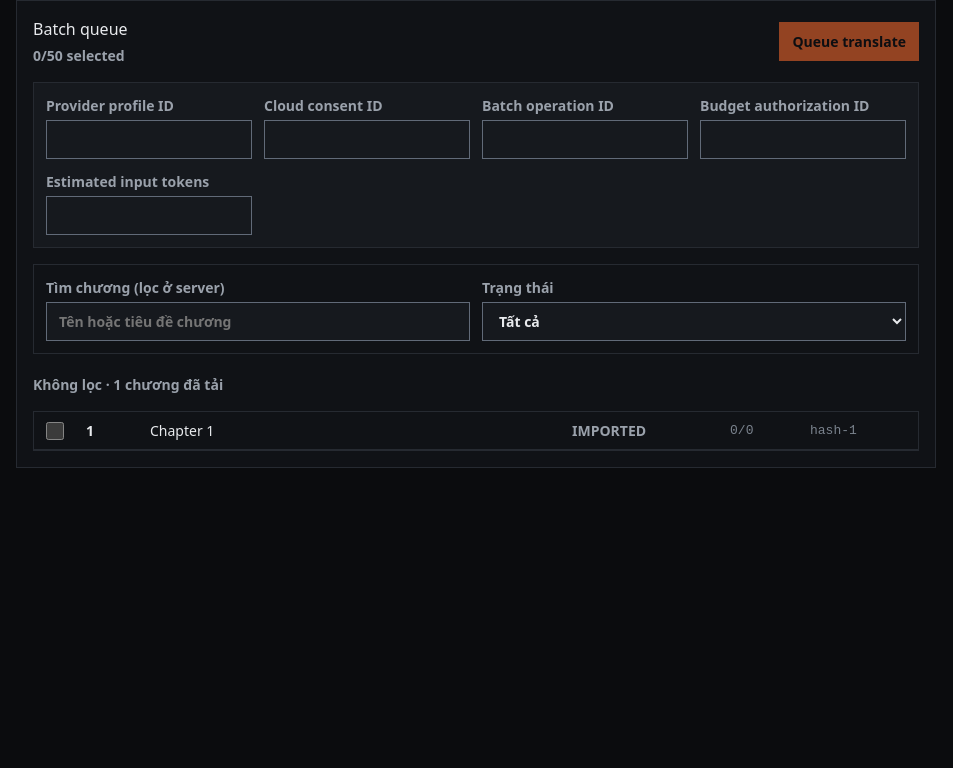
Test: BatchQueue (U07 round 3 - theo dõi batch) › FAILED ⇒ alert tổng hợp, nút Thử lại chỉ cho job retryable, non-retryable được đánh dấu
Expected: the text "Chapter 1" is shown, [150,421,214,440]
Click the checkbox. click: (55, 430)
box: [46,422,64,440]
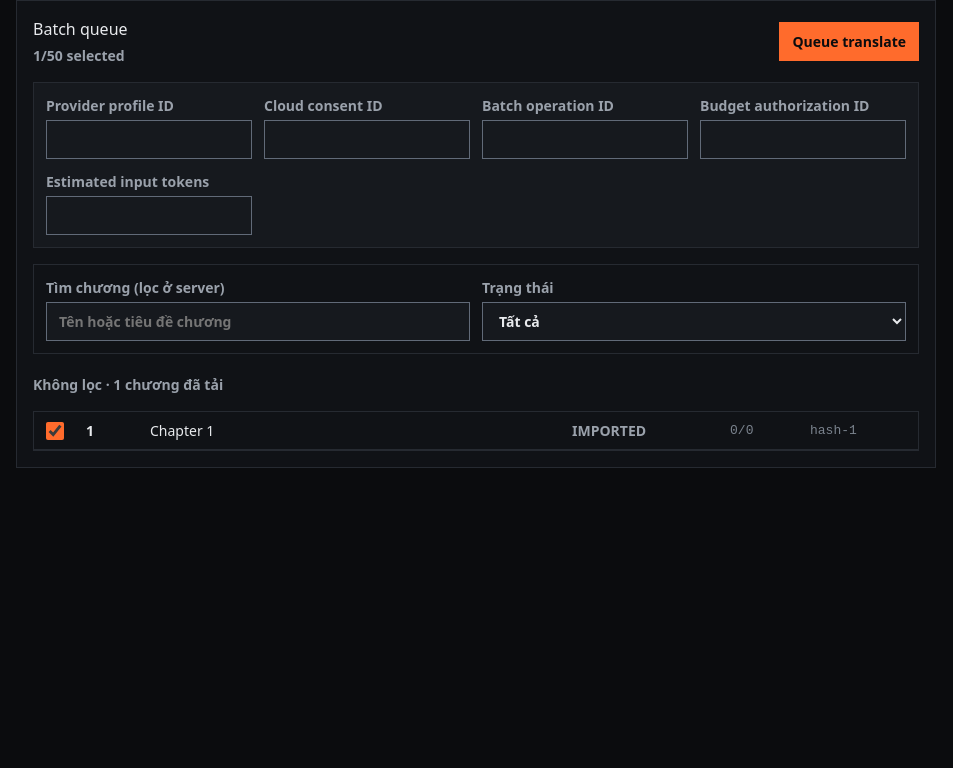
Expected: the text "1/50 selected" is shown, [33,45,128,66]
Type "prof-1" into the field labelled "Provider profile ID". click: (149, 140)
box: [46,120,252,159]
Type "consent-1" into the field labelled "Cloud consent ID". click: (367, 140)
box: [264,120,470,159]
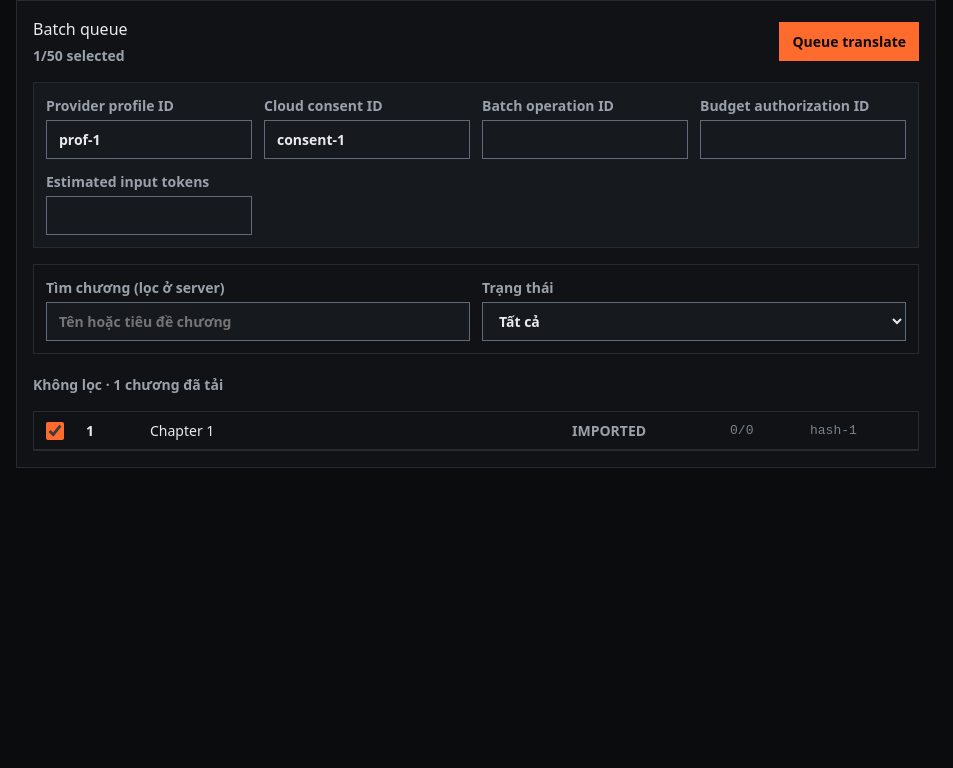
Type "quote-1" into the field labelled "Batch operation ID". click: (585, 140)
box: [482,120,688,159]
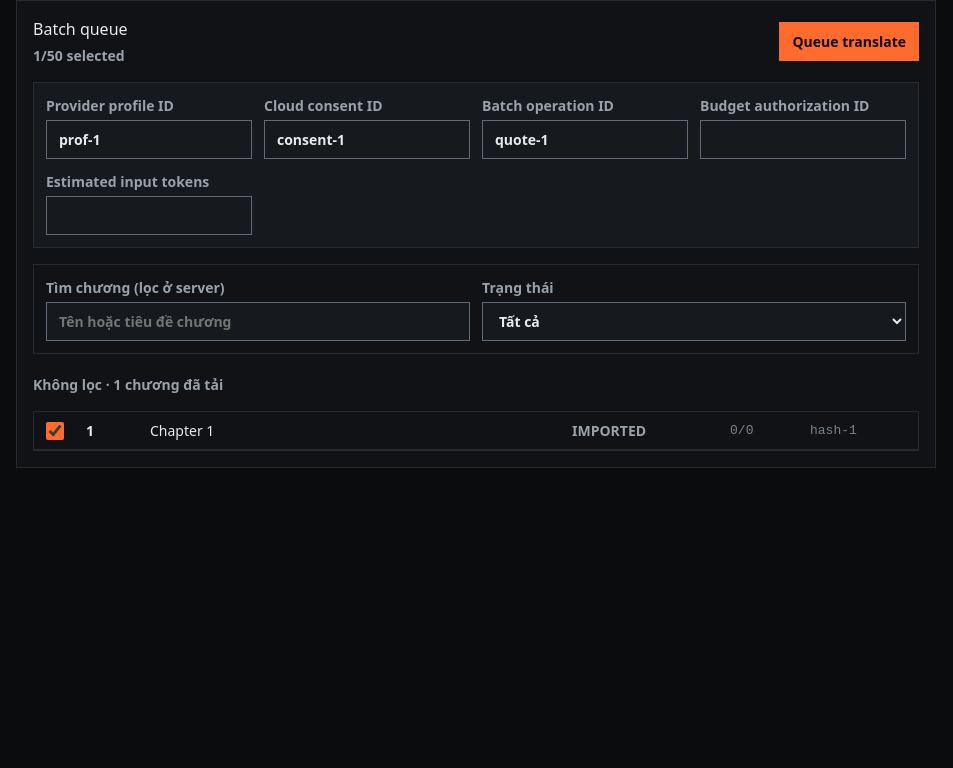
Type "budget-1" into the field labelled "Budget authorization ID". click: (803, 140)
box: [700,120,906,159]
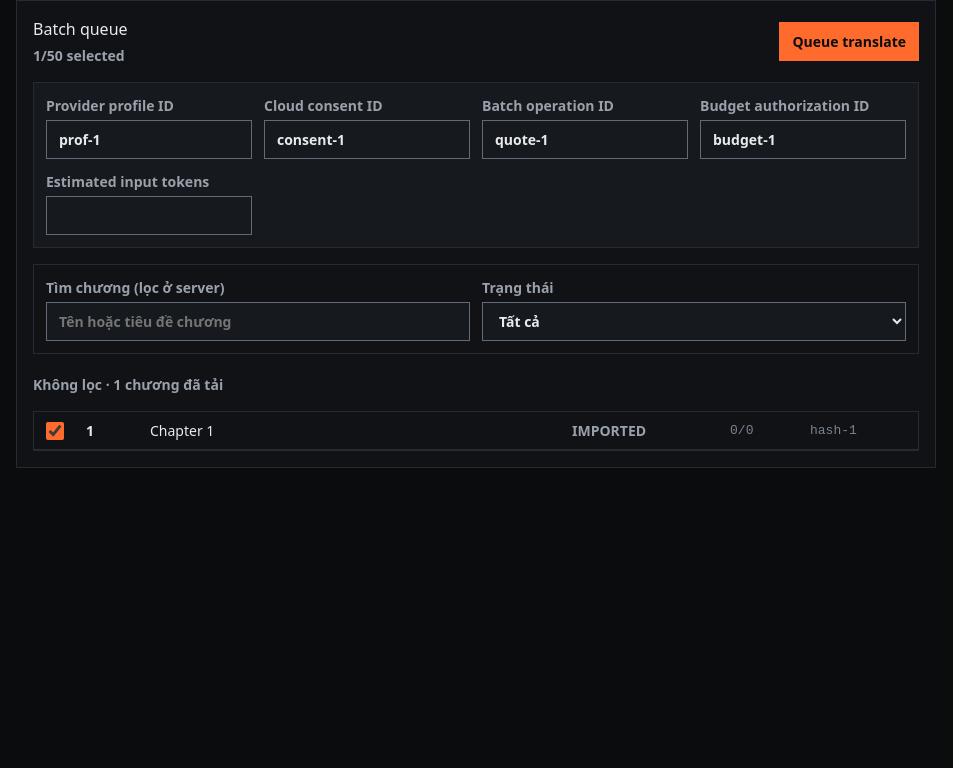
Type "120" into the field labelled "Estimated input tokens". click: (149, 216)
box: [46,196,252,235]
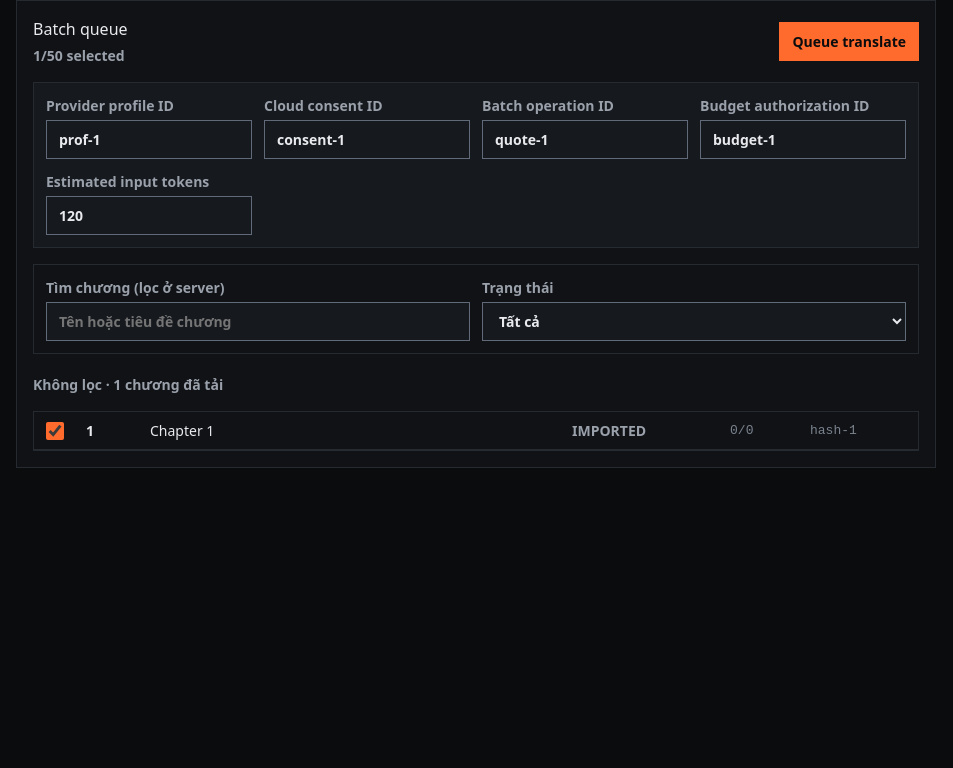
Click the button "Queue translate". click: (849, 42)
box: [779,22,919,61]
(page scrolled)
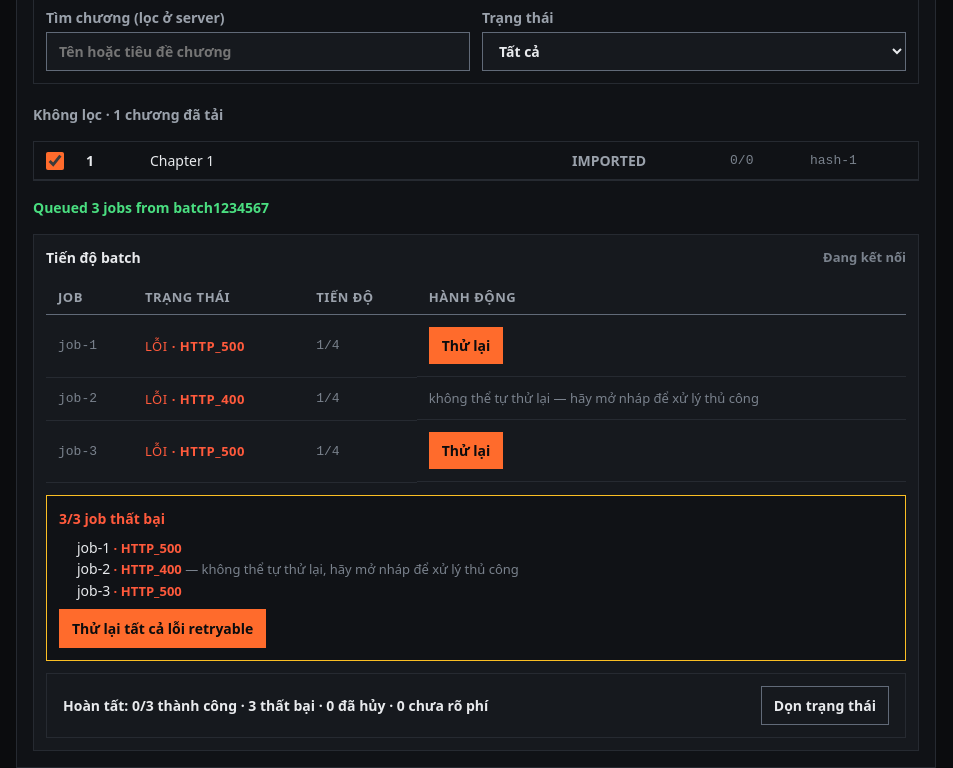
Expected: the text "Queued 3 jobs from batch1234567" is shown, [33,198,269,217]
Expected: the message that starts with "job thất bại" shows "3/3 job thất bại", [46,494,906,661]
Expected: the message that starts with "job thất bại" shows "HTTP_400", [121,560,182,578]
